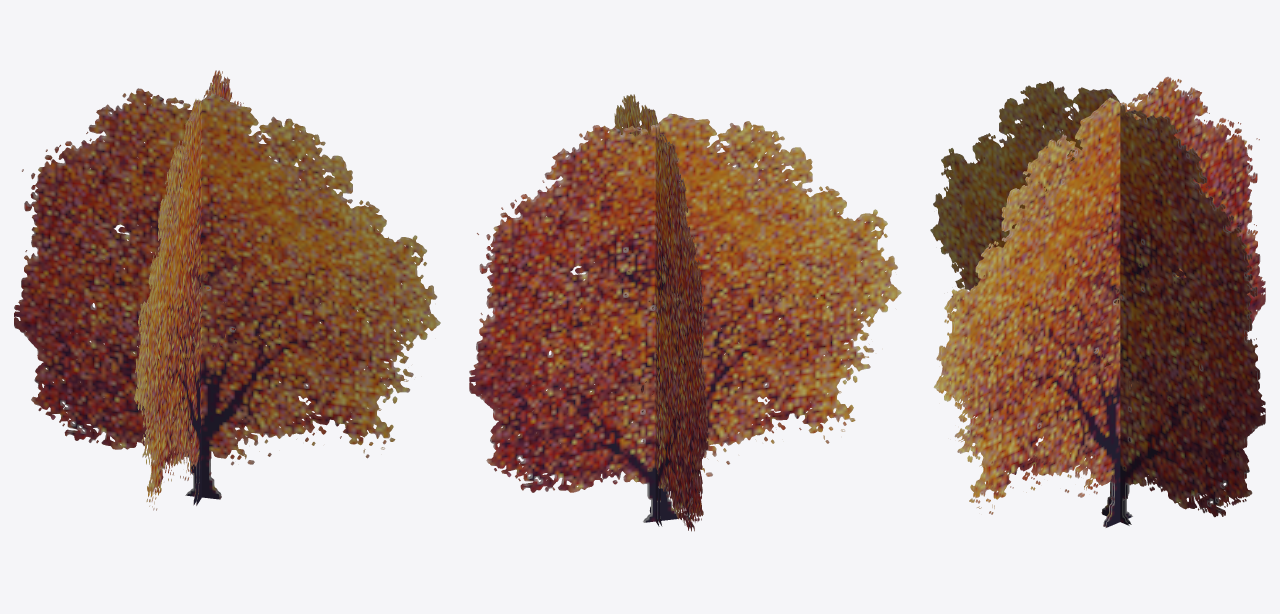
The model's file is tree028.fbx.
3 renders of one model, left to right at view 1: azimuth 30°, elevation 25°; view 2: azimuth 150°, elevation 25°; view 3: azimuth 270°, elevation 25°, orthographic. The views are drawn at different scales.
Visible parts, largest first — view 1: tree028; view 2: tree028; view 3: tree028.
Part boxes in pixels (x1,y1,x2,y2): tree028: (14, 70, 440, 510); tree028: (469, 94, 901, 531); tree028: (930, 76, 1265, 527).
Size of the model in its own units: 240 by 310 by 214.
1 material, 1 textured.
